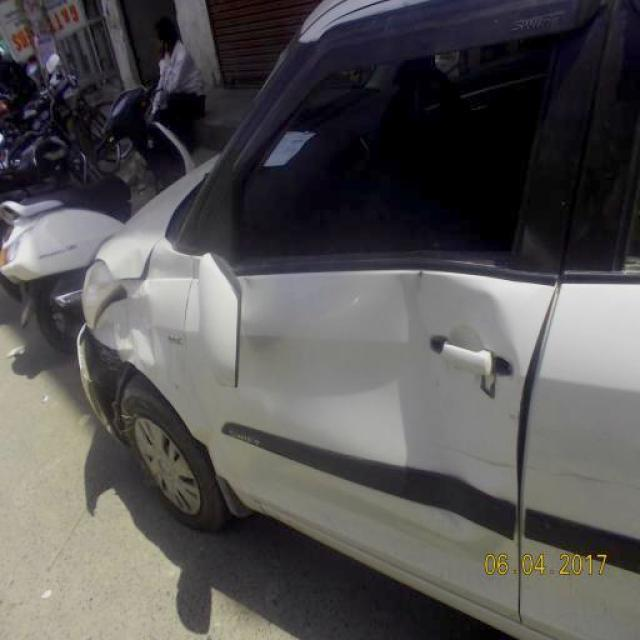car damage: (94, 239, 253, 512), (397, 272, 522, 544)
